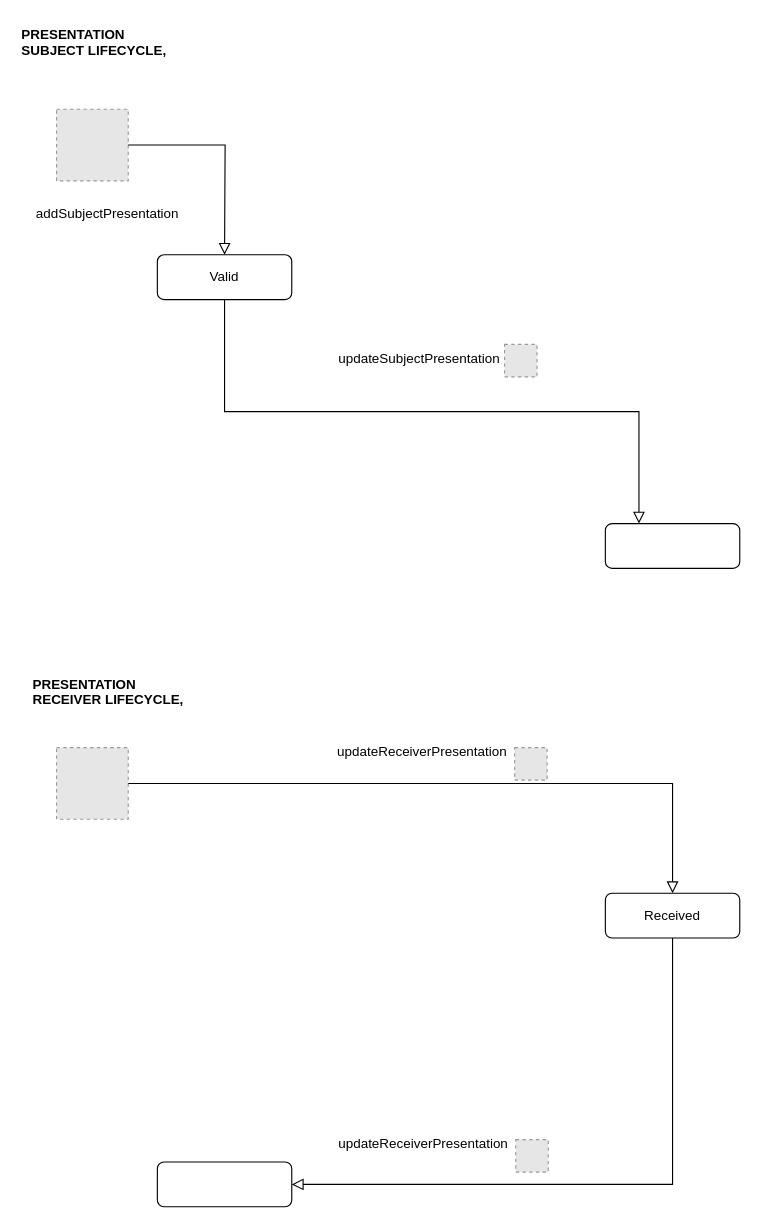
This 759x1226 diagram has some shape labels left out. Grey dashed boxes stand in for pictures. The centre of each missing label's shape, as x and y in pixels:
"Ask Deletion" belongs at (x=672, y=545).
"Deletion Confirmation" belongs at (x=224, y=1184).
